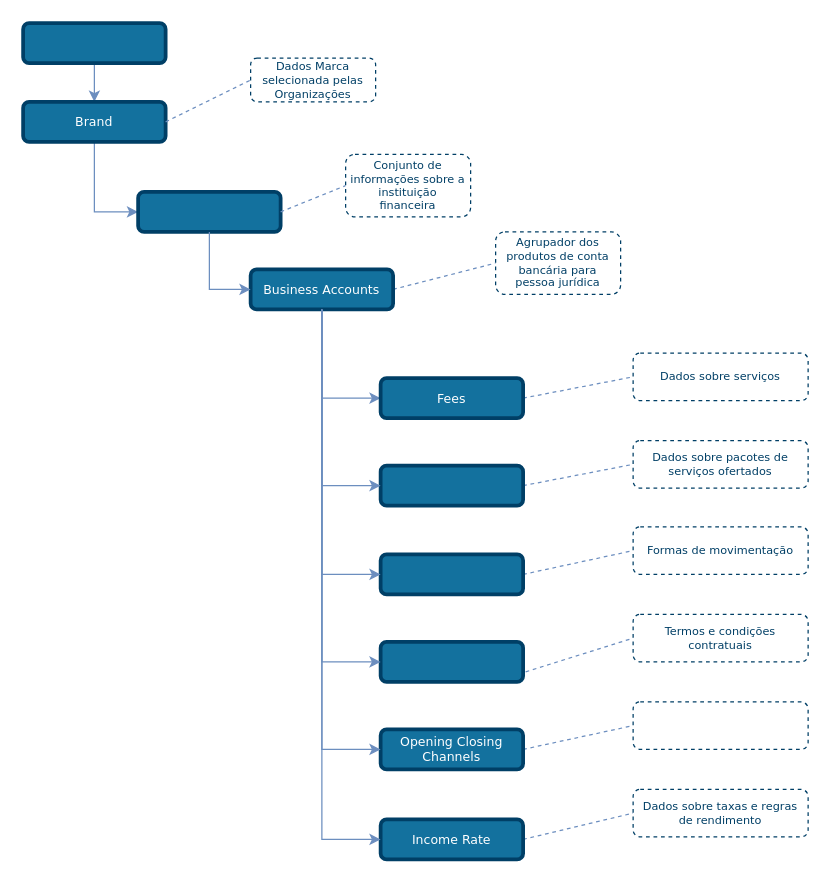
The diagram is 830 pixels wide and 883 high, and some of its shapes have lost their labels. Here are the shapes that lost their labels. From the top down, the centre of each, then its label:
At pixel 94 42: "Open Banking".
At pixel 209 211: "Companies".
At pixel 451 485: "Service Bundles".
At pixel 451 574: "Transaction Methods".
At pixel 451 661: "Terms and Conditions".
At pixel 720 725: "Canais disponíveis para abertura e encarramento da conta".
